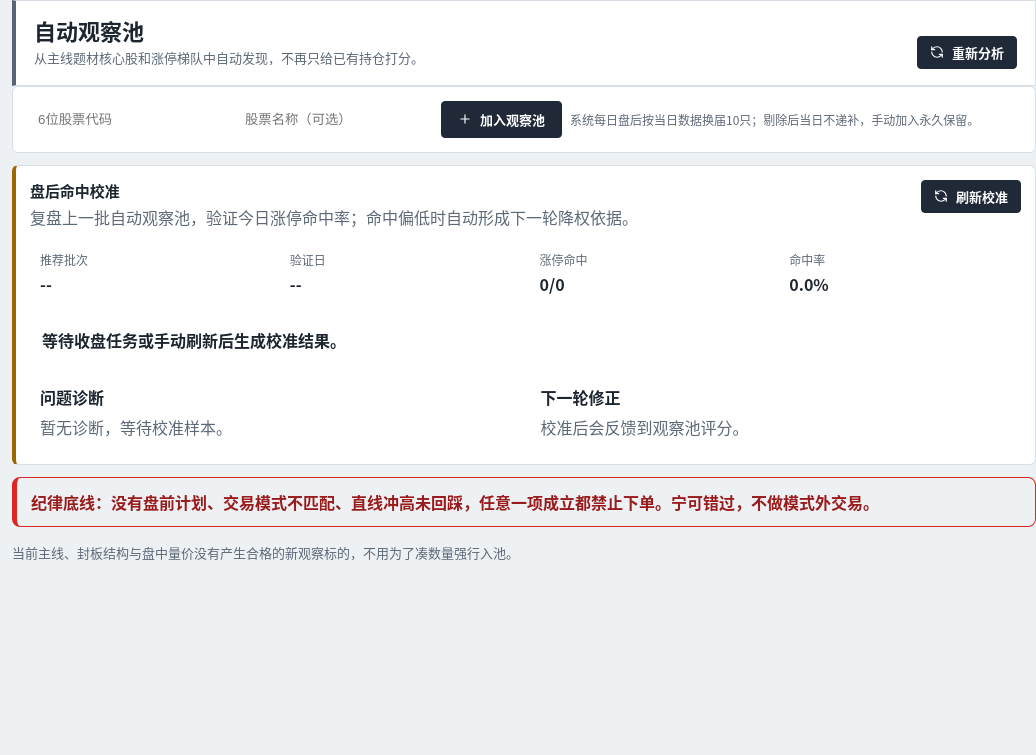
Test: 自动观察池显式刷新 › 较慢的GET响应不能覆盖后发POST刷新结果
Click the button "重新分析".
click(967, 52)  # box [917, 36, 1017, 68]
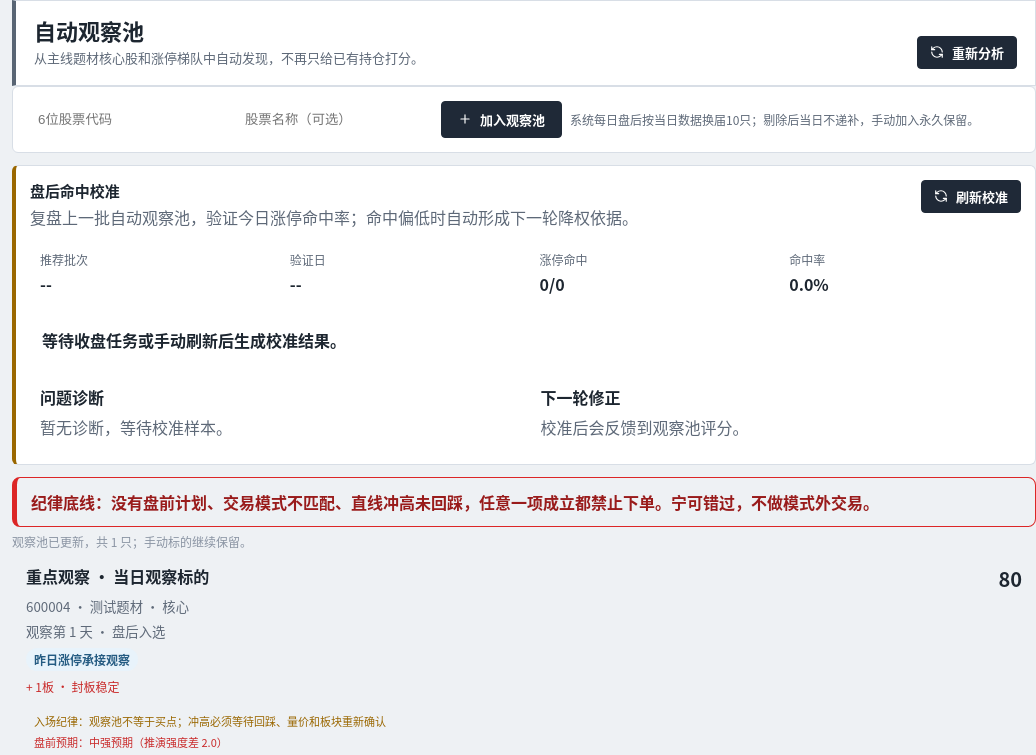
Now the text "重点观察 · 当日观察标的" is shown, box [26, 564, 209, 593]
